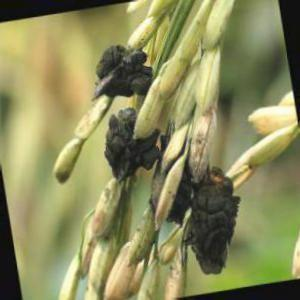Leaf_Scald: (194, 172, 235, 275), (102, 114, 158, 177), (103, 37, 147, 99)
